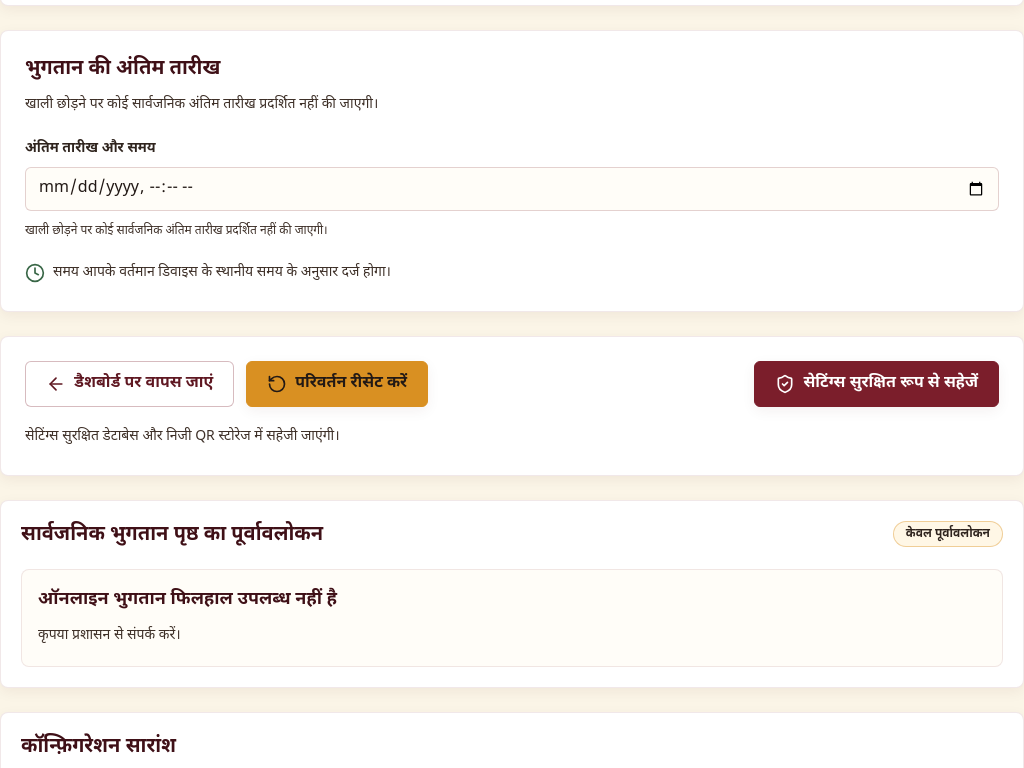
Test case: PaymentSettingsForm › allows disabled empty validation and saves through the admin service
The width and height of the screenshot is (1024, 768).
(page scrolled)
Click the button "सेटिंग्स सुरक्षित रूप से सहेजें". click: x=877, y=384
box: [754,361,999,407]
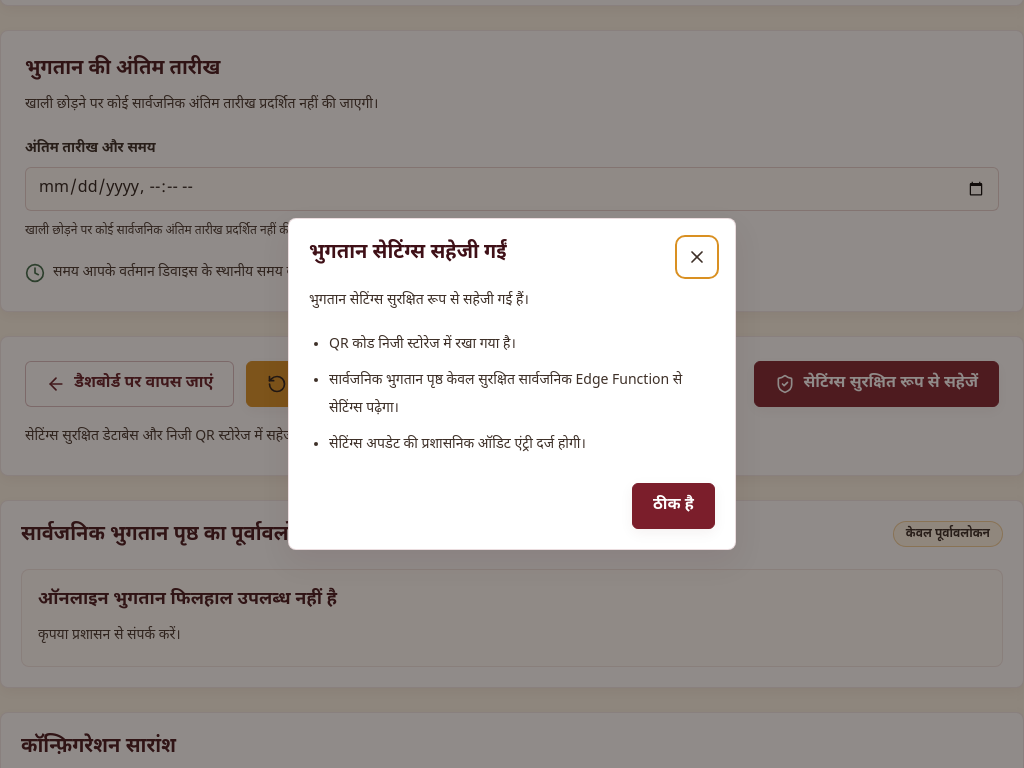
Now the dialog "भुगतान सेटिंग्स सहेजी गईं" is shown, box [288,218,736,550]
Now the text "भुगतान सेटिंग्स सुरक्षित रूप से सहेजी गई हैं।" is shown, box [309,291,529,310]
Now the list item "QR कोड निजी स्टोरेज में रखा गया है।" is shown, box [329,335,516,354]
